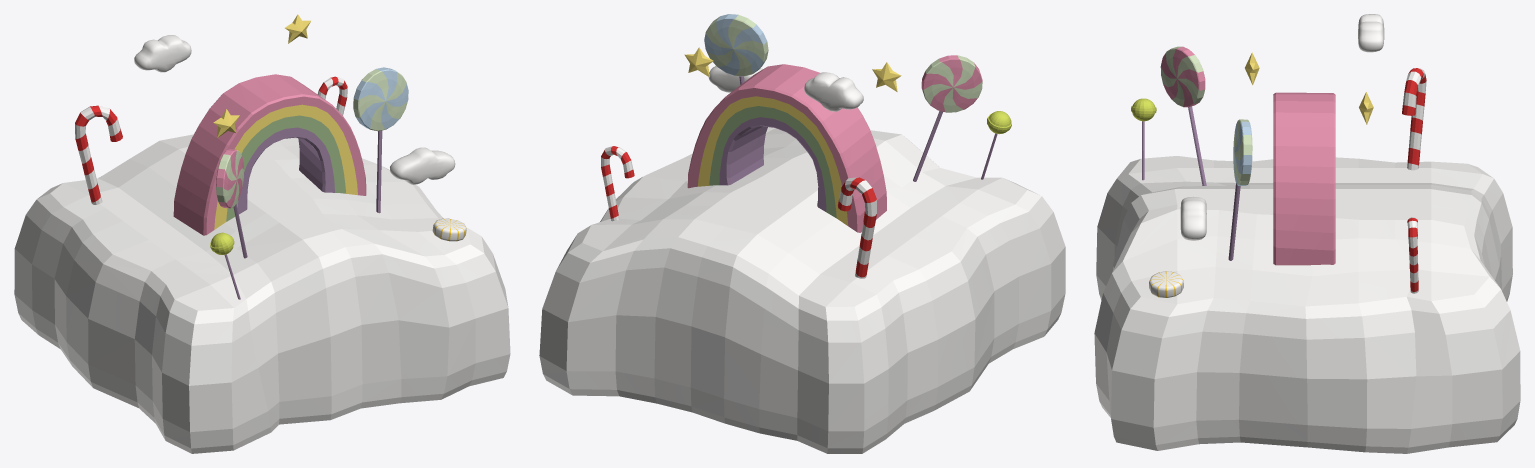
Rendered from Island_18.glb.
The picture shows the model from 3 angles, left to right: view 1: azimuth 30°, elevation 25°; view 2: azimuth 150°, elevation 25°; view 3: azimuth 270°, elevation 25°; orthographic projection. The views are drawn at different scales.
Parts seen in each view (by area): view 1: Isl18_Base, Isl18_Rainbow, Isl18_Candy_4, Isl18_Candy_6, Isl18_Cloud_1, Isl18_Candy_1, Isl18_Cloud_2, Isl18_Candy_2, Isl18_Candy_3, Isl18_Candy_5; view 2: Isl18_Base, Isl18_Rainbow, Isl18_Candy_1, Isl18_Candy_4, Isl18_Candy_6, Isl18_Cloud_2, Isl18_Candy_5, Isl18_Candy_3, Isl18_Cloud_1; view 3: Isl18_Base, Isl18_Rainbow, Isl18_Candy_1, Isl18_Candy_6, Isl18_Candy_4, Isl18_Cloud_1, Isl18_Cloud_2, Isl18_Candy_2, Isl18_Candy_5, Isl18_Candy_3.
Part boxes in pixels (x1,y1,x2,y2): Isl18_Base: [14, 134, 510, 453]; Isl18_Rainbow: [173, 74, 366, 235]; Isl18_Candy_4: [353, 67, 408, 213]; Isl18_Candy_6: [75, 105, 122, 204]; Isl18_Cloud_1: [390, 147, 455, 184]; Isl18_Candy_1: [216, 149, 247, 258]; Isl18_Cloud_2: [134, 35, 191, 72]; Isl18_Candy_2: [432, 218, 466, 241]; Isl18_Candy_3: [210, 232, 240, 299]; Isl18_Candy_5: [317, 76, 347, 115]; Isl18_Base: [539, 127, 1065, 453]; Isl18_Rainbow: [687, 64, 886, 232]; Isl18_Candy_1: [913, 55, 982, 181]; Isl18_Candy_4: [704, 14, 768, 84]; Isl18_Candy_6: [838, 177, 876, 278]; Isl18_Cloud_2: [804, 72, 863, 111]; Isl18_Candy_5: [601, 146, 634, 221]; Isl18_Candy_3: [981, 111, 1011, 179]; Isl18_Cloud_1: [708, 66, 762, 92]; Isl18_Base: [1094, 156, 1520, 453]; Isl18_Rainbow: [1273, 92, 1335, 265]; Isl18_Candy_1: [1160, 46, 1206, 185]; Isl18_Candy_6: [1402, 68, 1426, 170]; Isl18_Candy_4: [1228, 119, 1252, 260]; Isl18_Cloud_1: [1180, 196, 1206, 240]; Isl18_Cloud_2: [1358, 14, 1384, 52]; Isl18_Candy_2: [1149, 271, 1183, 297]; Isl18_Candy_5: [1407, 217, 1418, 293]; Isl18_Candy_3: [1131, 98, 1156, 180].
Size of the model in its own units: 20.64 by 17.12 by 21.12.
1 material, 1 textured.
